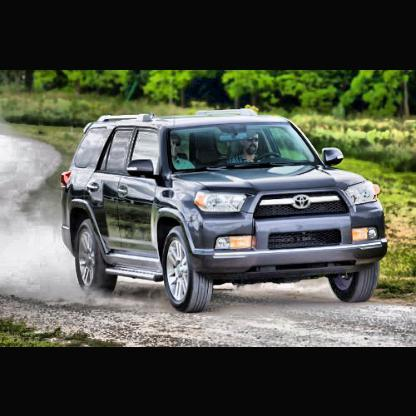Toyota 4Runner SUV 2012: (59, 109, 390, 312)
